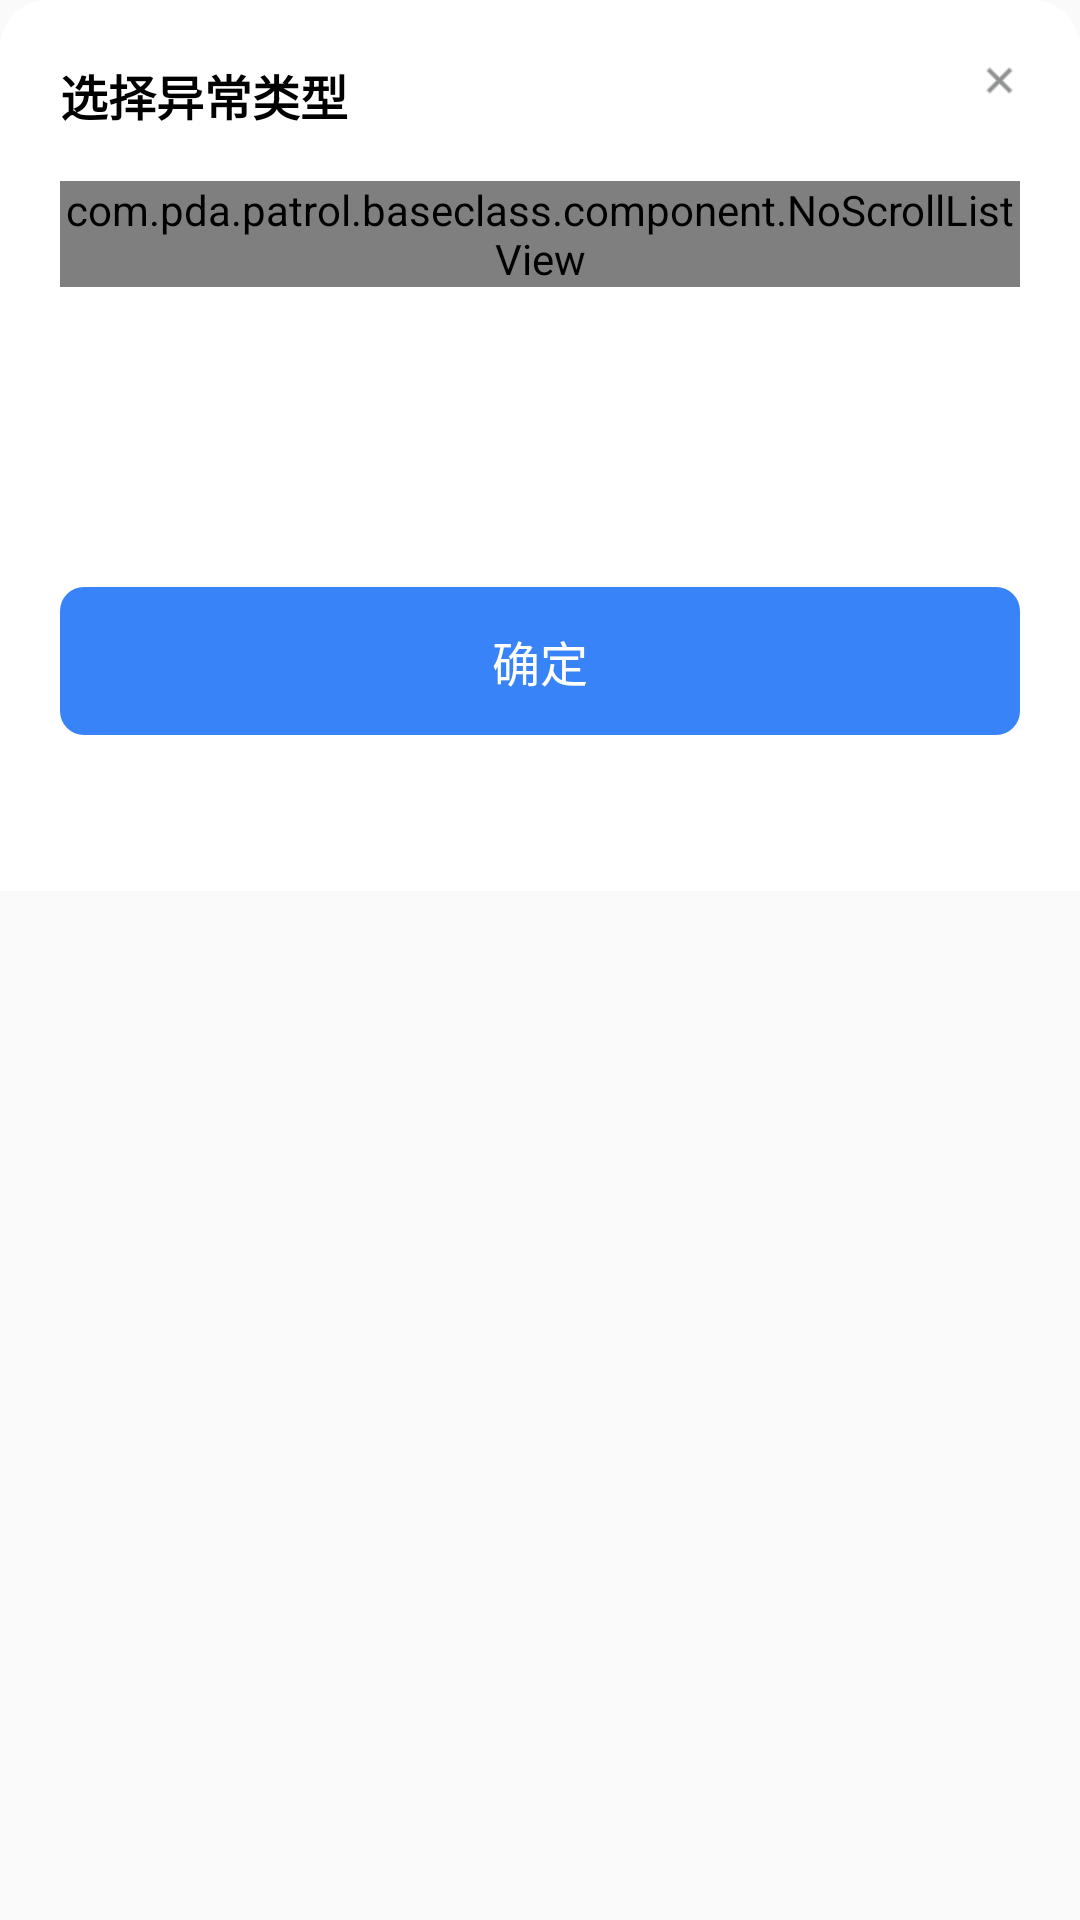

Where icons sit on this 1080×1920 app screen, as (left=x1, top=y1, right=x2, bottom=y2):
close: (left=987, top=68, right=1012, bottom=93)
